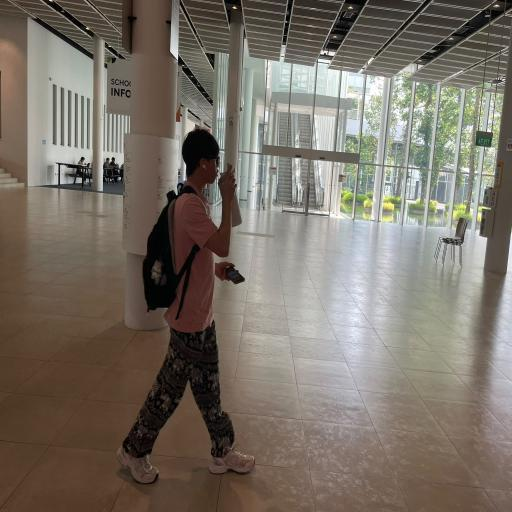person_right: (118, 128, 252, 484)
